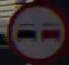No overtake: (4, 4, 63, 56)
